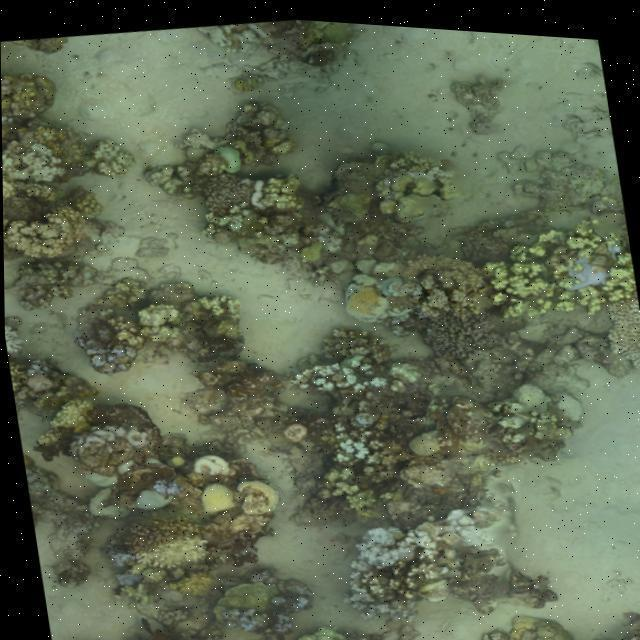Bleached Coral: (465, 222, 638, 328), (2, 198, 108, 273), (338, 516, 445, 574), (334, 562, 421, 630), (1, 123, 68, 196), (268, 596, 378, 640), (306, 344, 386, 404), (128, 527, 215, 576), (326, 413, 383, 469)
